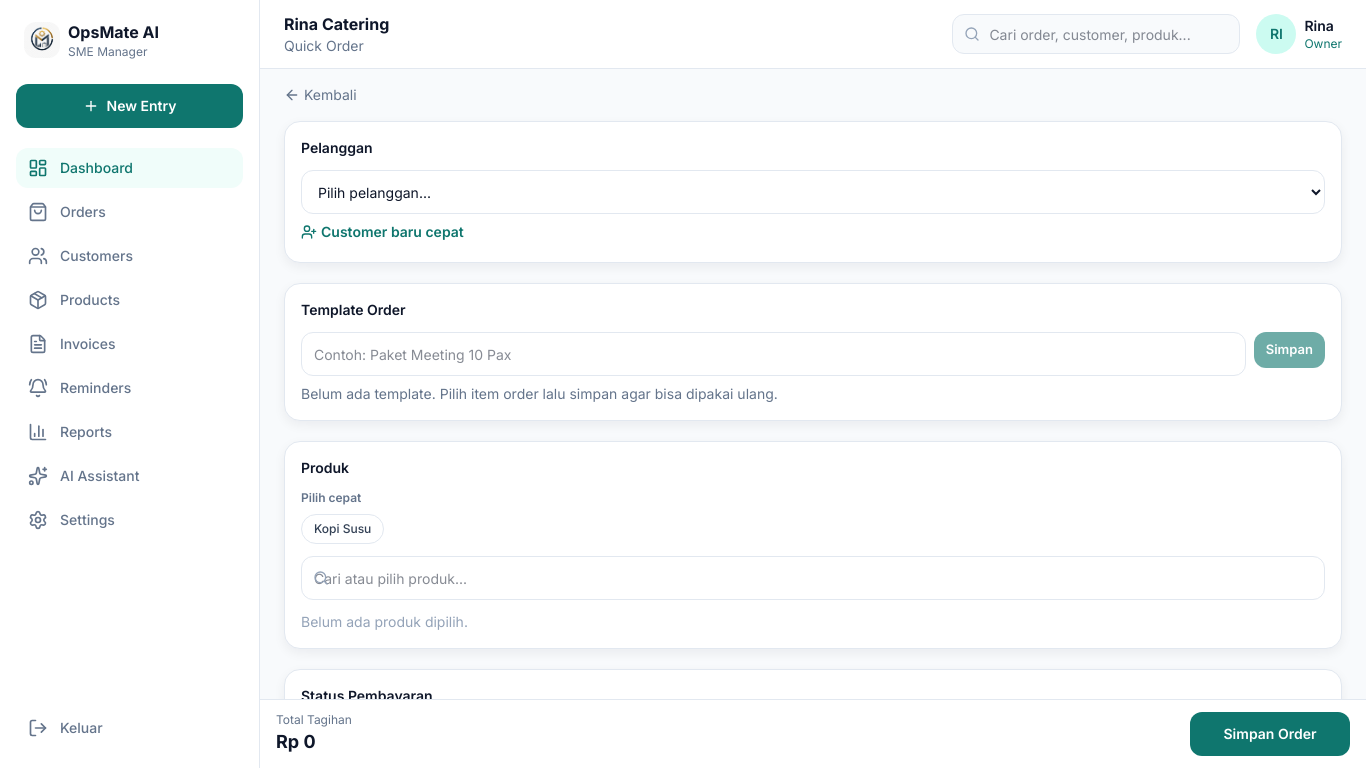
Test: OrderFormPage › updates the total as products are added
This screenshot has width=1366, height=768.
Expected: the text "Rp 0" is shown, left=276, top=731, right=316, bottom=752
Click the button "Kopi Susu": (343, 529) left=301, top=514, right=384, bottom=544
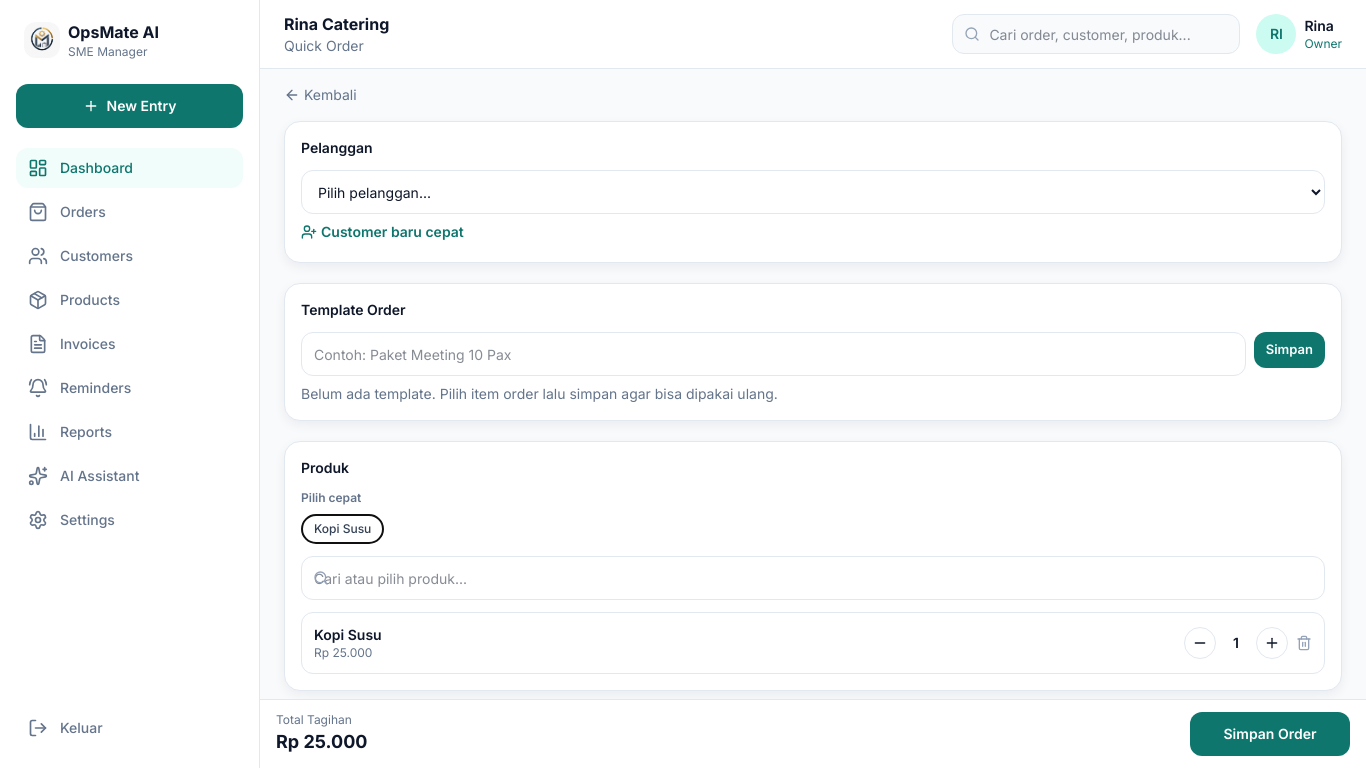
Click the button named "Tambah": (1272, 643) left=1256, top=627, right=1288, bottom=659
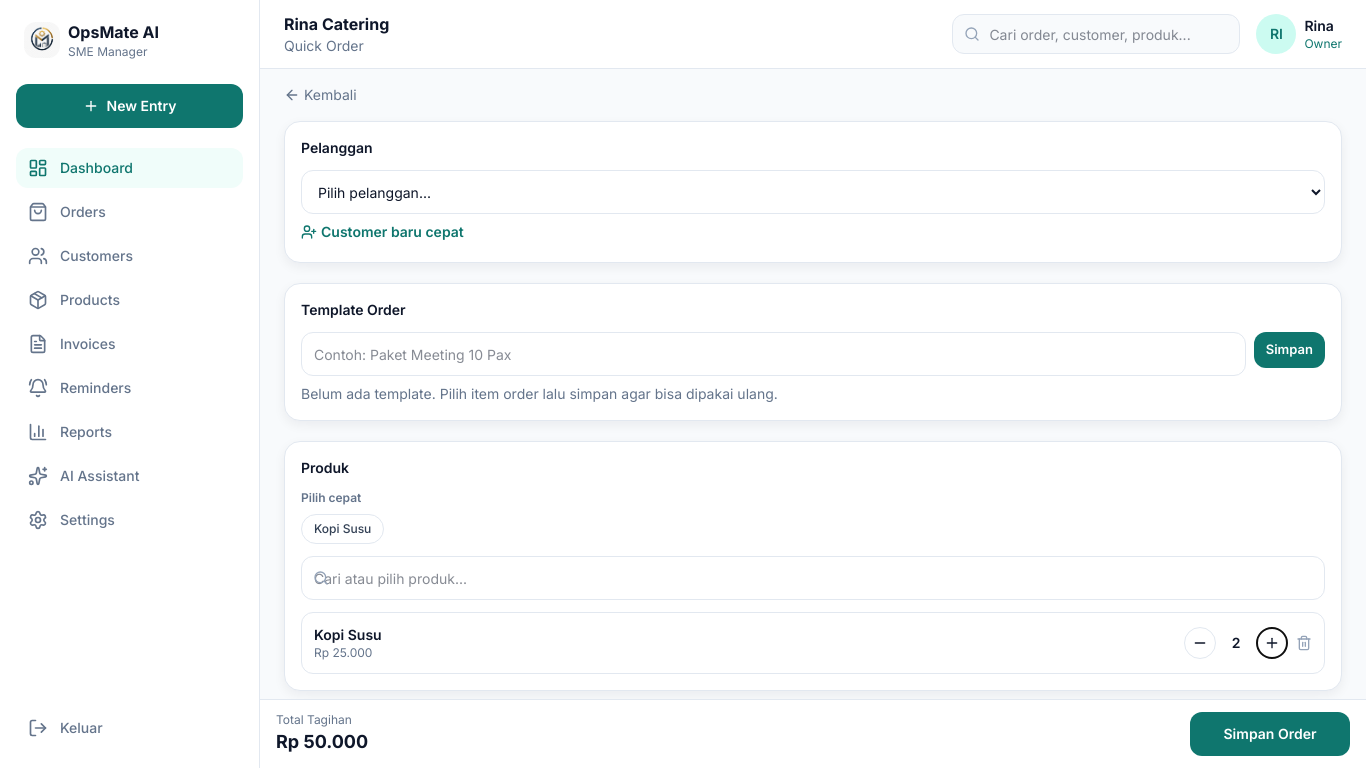
Now the text "Rp 50.000" is shown, box left=276, top=728, right=368, bottom=756
